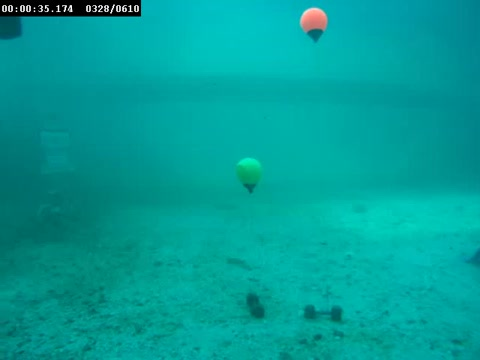buoy_green: (234, 155, 260, 194)
buoy_red: (298, 6, 328, 46)
